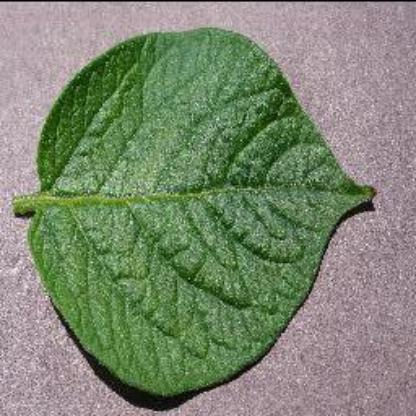Healthy-plant: (13, 25, 382, 402)
